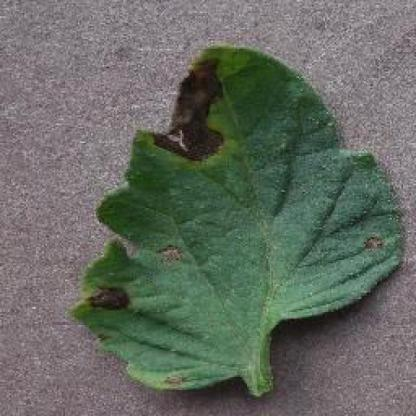Tomato_Blight: (71, 45, 401, 391)
